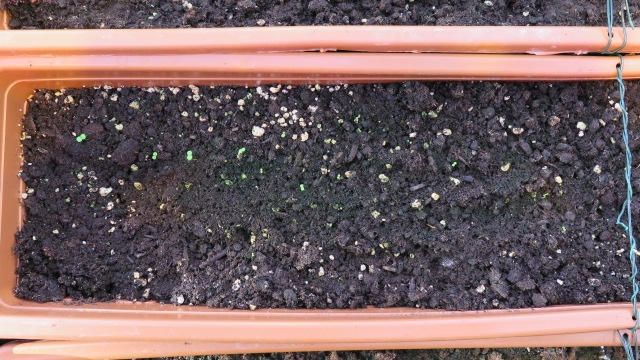weed: (181, 148, 195, 162), (72, 133, 88, 143), (148, 150, 161, 161), (446, 160, 460, 168)
